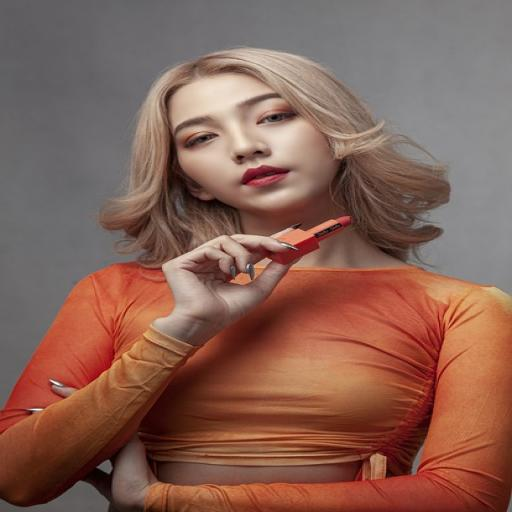lipstick: (266, 216, 351, 263)
